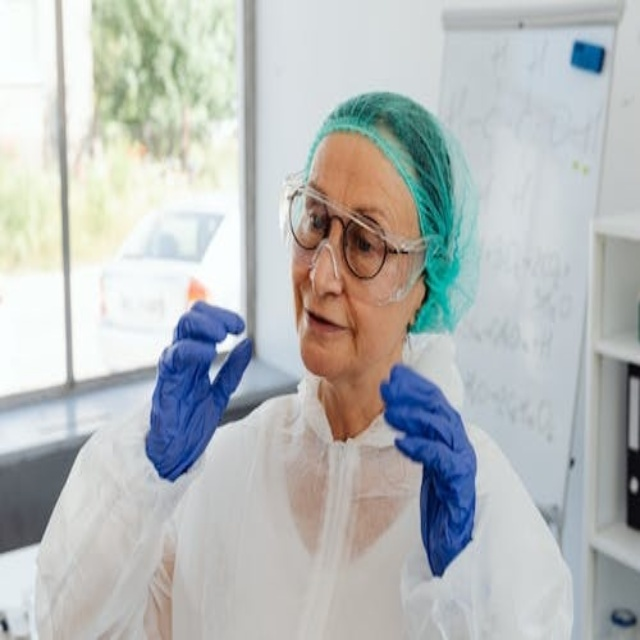Gafas: (283, 176, 435, 305)
Guantes: (380, 362, 478, 580), (144, 300, 253, 484)
Sin_mascara: (291, 288, 360, 381)
